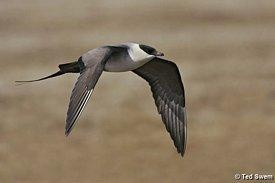bird: (13, 44, 189, 158)
